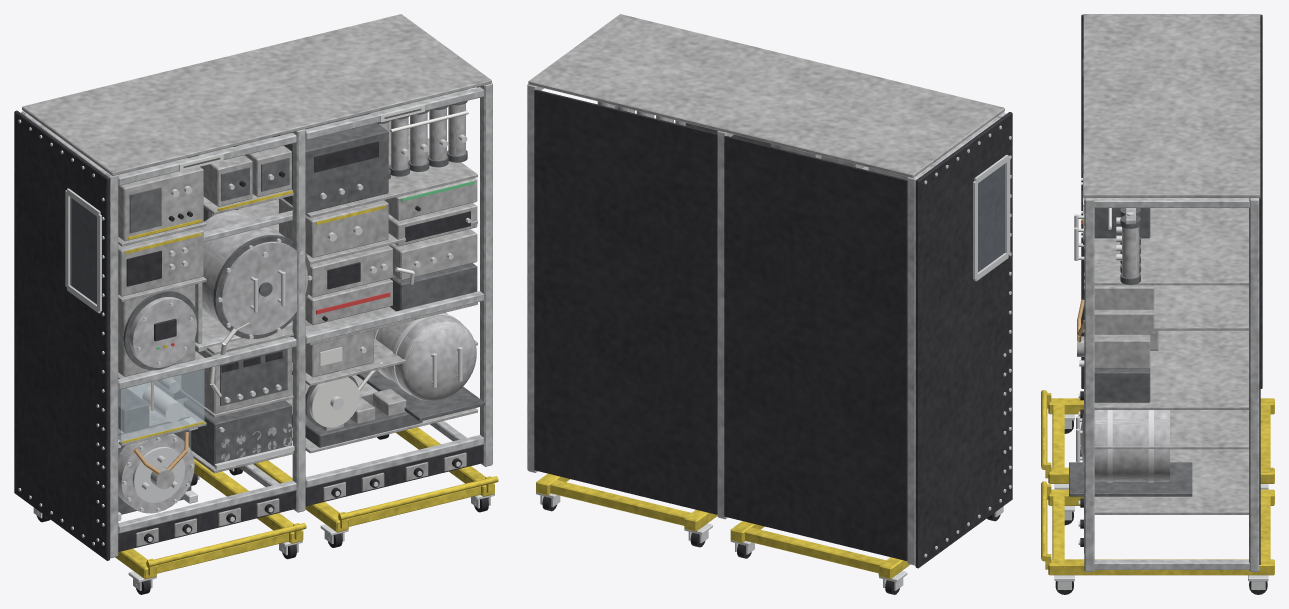
File: sistema_recuperacion_agua_ISS.glb
3 views of the same model, side by side, from view 1: azimuth 30°, elevation 25°; view 2: azimuth 150°, elevation 25°; view 3: azimuth 270°, elevation 25° (orthographic). The views are drawn at different scales.
Parts seen in each view (by area): view 1: WRS_Equipo_Gris, WRS_Panel_Negro, WRS_Marco_Aluminio, WRS_Equipo_Oscuro, WRS_Tambor_Metal, WRS_Amarillo, WRS_Acero, WRS_Vidrio, WRS_Blanco, WRS_Negro; view 2: WRS_Panel_Negro, WRS_Equipo_Gris, WRS_Marco_Aluminio, WRS_Amarillo, WRS_Acero, WRS_Vidrio, WRS_Negro; view 3: WRS_Equipo_Gris, WRS_Marco_Aluminio, WRS_Amarillo, WRS_Equipo_Oscuro, WRS_Tambor_Metal, WRS_Acero, WRS_Panel_Negro, WRS_Negro.
Boxes of the visible parts, <box> form: WRS_Equipo_Gris: <box>22,14,491,546</box>; WRS_Panel_Negro: <box>14,110,483,560</box>; WRS_Marco_Aluminio: <box>21,83,492,558</box>; WRS_Equipo_Oscuro: <box>118,101,484,514</box>; WRS_Tambor_Metal: <box>118,103,476,513</box>; WRS_Amarillo: <box>115,190,498,579</box>; WRS_Acero: <box>18,91,494,590</box>; WRS_Vidrio: <box>70,198,204,441</box>; WRS_Blanco: <box>179,104,468,427</box>; WRS_Negro: <box>37,171,488,594</box>; WRS_Panel_Negro: <box>534,89,1012,568</box>; WRS_Equipo_Gris: <box>528,14,1004,179</box>; WRS_Marco_Aluminio: <box>527,84,1005,565</box>; WRS_Amarillo: <box>536,473,910,579</box>; WRS_Acero: <box>536,125,1011,590</box>; WRS_Vidrio: <box>978,164,1004,272</box>; WRS_Negro: <box>542,496,1000,594</box>; WRS_Equipo_Gris: <box>1077,14,1260,553</box>; WRS_Marco_Aluminio: <box>1084,198,1259,571</box>; WRS_Amarillo: <box>1041,219,1274,575</box>; WRS_Equipo_Oscuro: <box>1069,59,1192,496</box>; WRS_Tambor_Metal: <box>1080,173,1169,481</box>; WRS_Acero: <box>1054,178,1268,590</box>; WRS_Panel_Negro: <box>1081,14,1262,564</box>; WRS_Negro: <box>1055,391,1267,594</box>.
Size of the model in its own units: 2.14 by 2.19 by 1.13.
13 materials, 6 textured.
